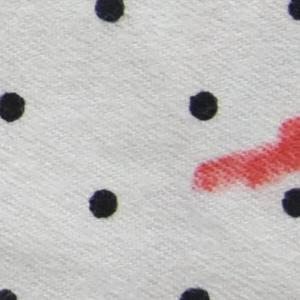Stain: (192, 114, 300, 199)
